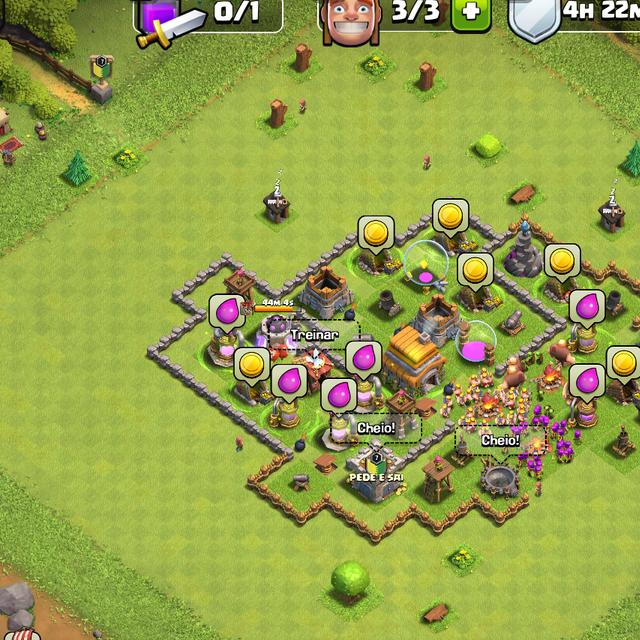Elixir: (318, 378, 358, 418), (209, 293, 247, 335), (345, 339, 383, 381), (569, 363, 607, 405), (271, 364, 308, 404), (569, 290, 606, 330)
coin: (432, 197, 470, 240), (456, 251, 494, 293), (544, 243, 582, 284), (358, 215, 395, 257), (233, 348, 270, 389), (605, 344, 640, 386)
